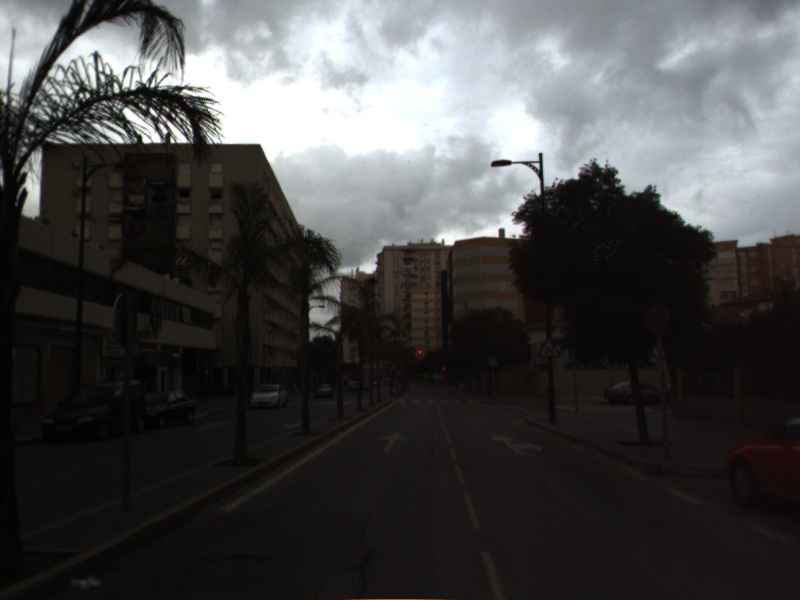STRAIGHT: (380, 431, 410, 454)
STRAIGHT_RIGHT: (488, 431, 544, 456)
